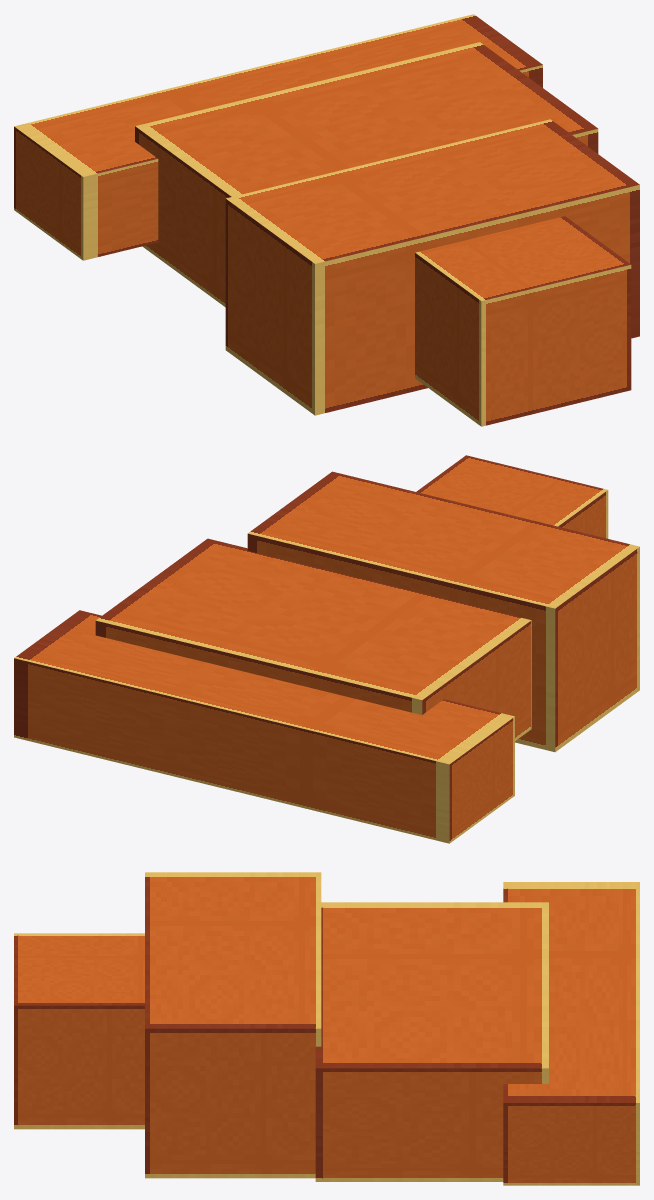
Rendered from bench_axe_0_hot.obj.
3 views of the same model, one above another, from view 1: azimuth 30°, elevation 25°; view 2: azimuth 150°, elevation 25°; view 3: azimuth 270°, elevation 25° (orthographic). The views are drawn at different scales.
Parts seen in each view (by area): view 1: geometry; view 2: geometry; view 3: geometry.
Part boxes in pixels (box(x1,y1,x2,y2)): geometry: box(14, 14, 639, 426); geometry: box(14, 455, 639, 843); geometry: box(14, 872, 639, 1185).
Bounding box in the file's own units: 0.6273 × 0.1977 × 0.75.
